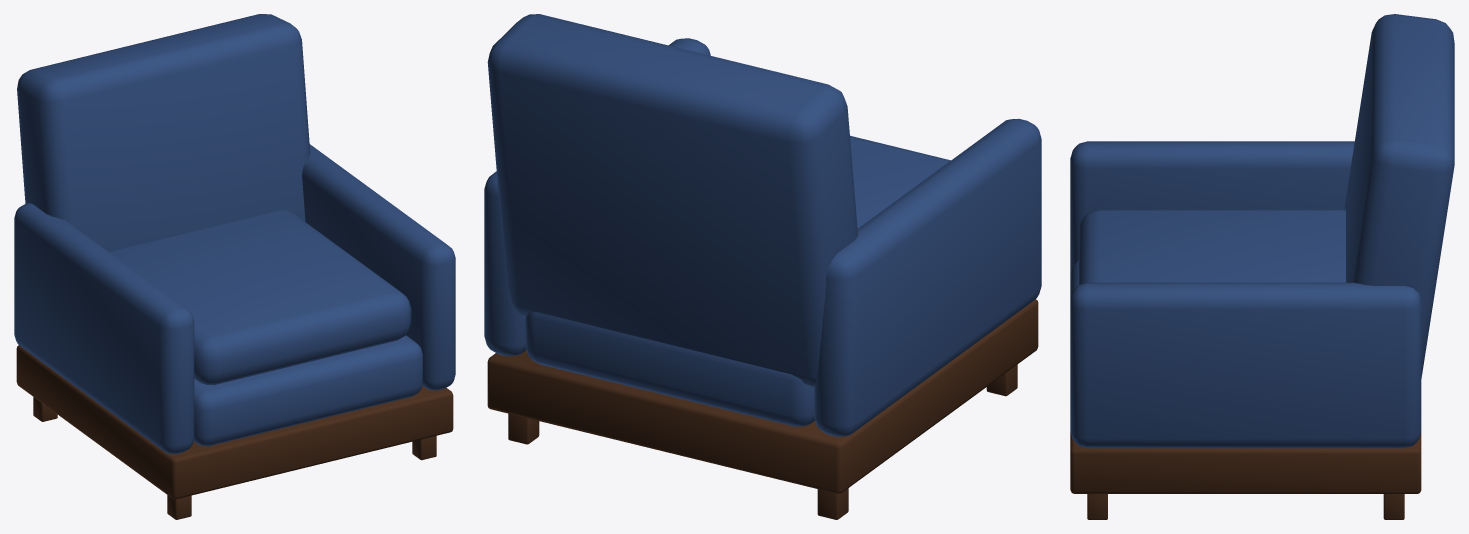
File: Armchair.glb
3 views of the same model, side by side, from view 1: azimuth 30°, elevation 25°; view 2: azimuth 150°, elevation 25°; view 3: azimuth 270°, elevation 25° (orthographic). The views are drawn at different scales.
Visible parts, largest first — view 1: Armchair; view 2: Armchair; view 3: Armchair.
Boxes of the visible parts, x1=… form: Armchair: x1=14, y1=14, x2=455, y2=519; Armchair: x1=484, y1=14, x2=1041, y2=519; Armchair: x1=1070, y1=14, x2=1454, y2=519.
Bounding box in the file's own units: 0.9 × 0.9836 × 0.9194.
